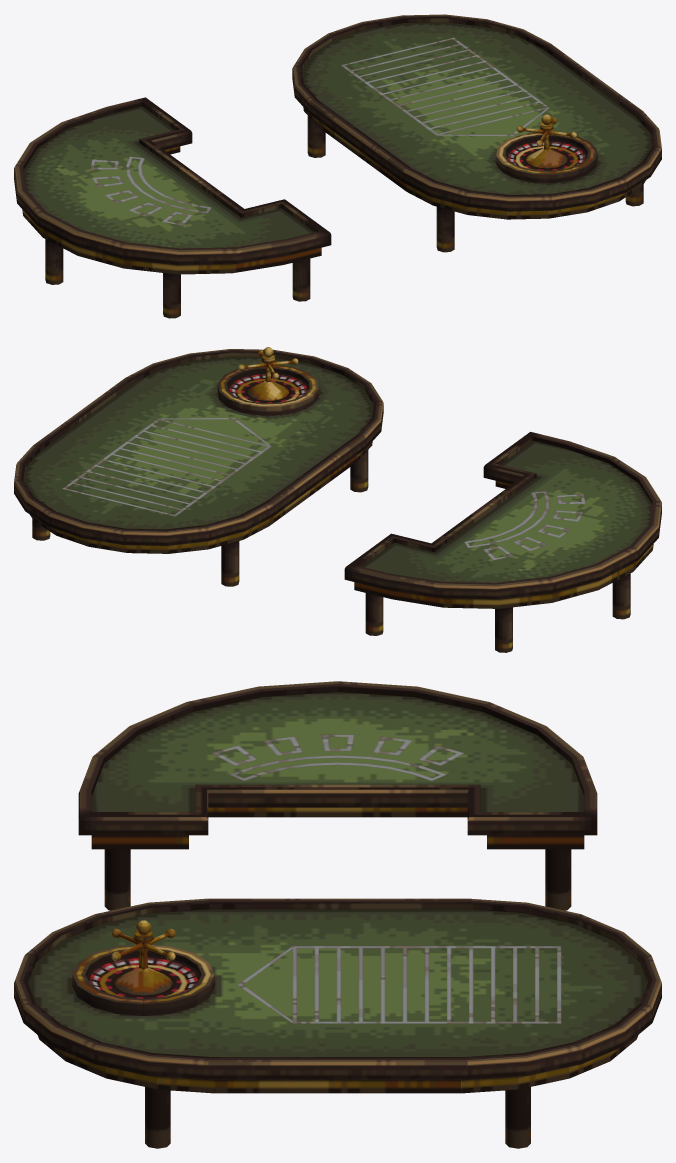
The model's file is EnvObjMD_Table_Casino_A_L.FBX.
The picture shows the model from 3 angles, top to bottom: view 1: azimuth 30°, elevation 25°; view 2: azimuth 150°, elevation 25°; view 3: azimuth 270°, elevation 25°; orthographic projection. The views are drawn at different scales.
Visible parts, largest first — view 1: EnvObjMD_Table_Casino_A_L, EnvObjMD_Table_Casino_A_S; view 2: EnvObjMD_Table_Casino_A_L, EnvObjMD_Table_Casino_A_S; view 3: EnvObjMD_Table_Casino_A_L, EnvObjMD_Table_Casino_A_S.
Part boxes in pixels (x1,y1,x2,y2): EnvObjMD_Table_Casino_A_L: [292, 14, 661, 252]; EnvObjMD_Table_Casino_A_S: [14, 97, 331, 318]; EnvObjMD_Table_Casino_A_L: [14, 347, 383, 586]; EnvObjMD_Table_Casino_A_S: [344, 432, 661, 652]; EnvObjMD_Table_Casino_A_L: [14, 898, 661, 1148]; EnvObjMD_Table_Casino_A_S: [78, 681, 597, 910].
Size of the model in its own units: 697 by 136 by 500.
